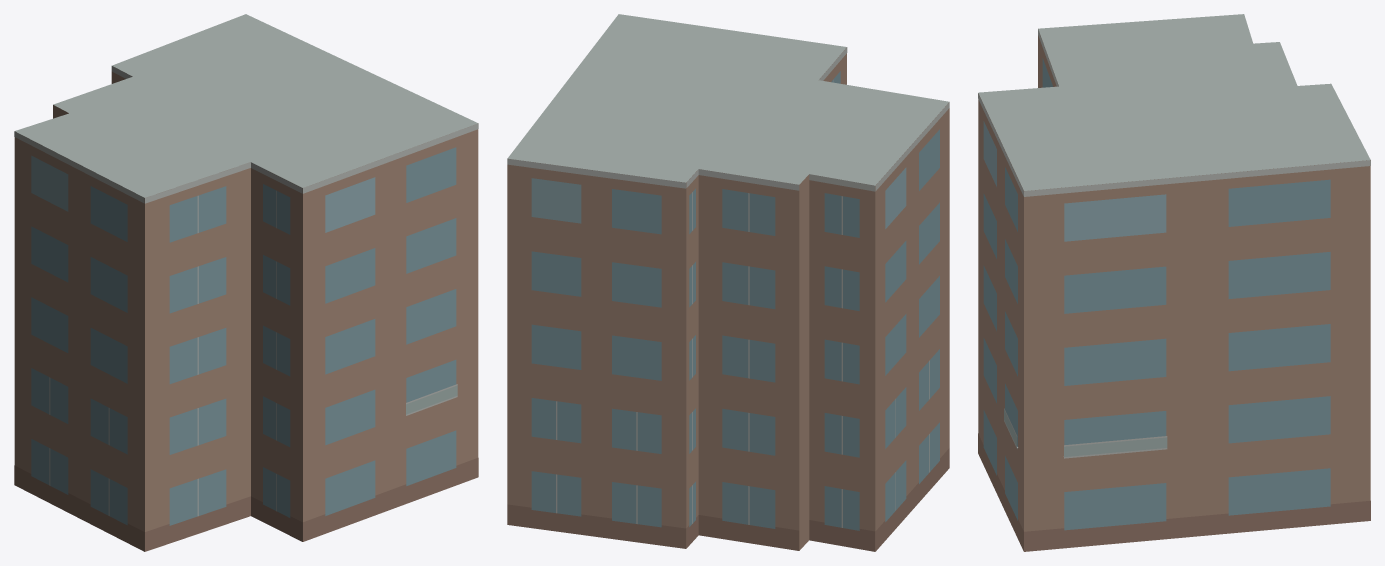
File: survey-upis-32958074.glb
3 views of the same model, side by side, from view 1: azimuth 30°, elevation 25°; view 2: azimuth 150°, elevation 25°; view 3: azimuth 270°, elevation 25° (orthographic). The views are drawn at different scales.
Parts seen in each view (by area): view 1: survey-upis-32958074.tmp; view 2: survey-upis-32958074.tmp; view 3: survey-upis-32958074.tmp.
Part boxes in pixels (x1,y1,x2,y2): survey-upis-32958074.tmp: [14, 14, 478, 551]; survey-upis-32958074.tmp: [507, 14, 949, 551]; survey-upis-32958074.tmp: [978, 14, 1370, 551].
Bounding box in the file's own units: 15.7 × 14.9 × 14.71.
